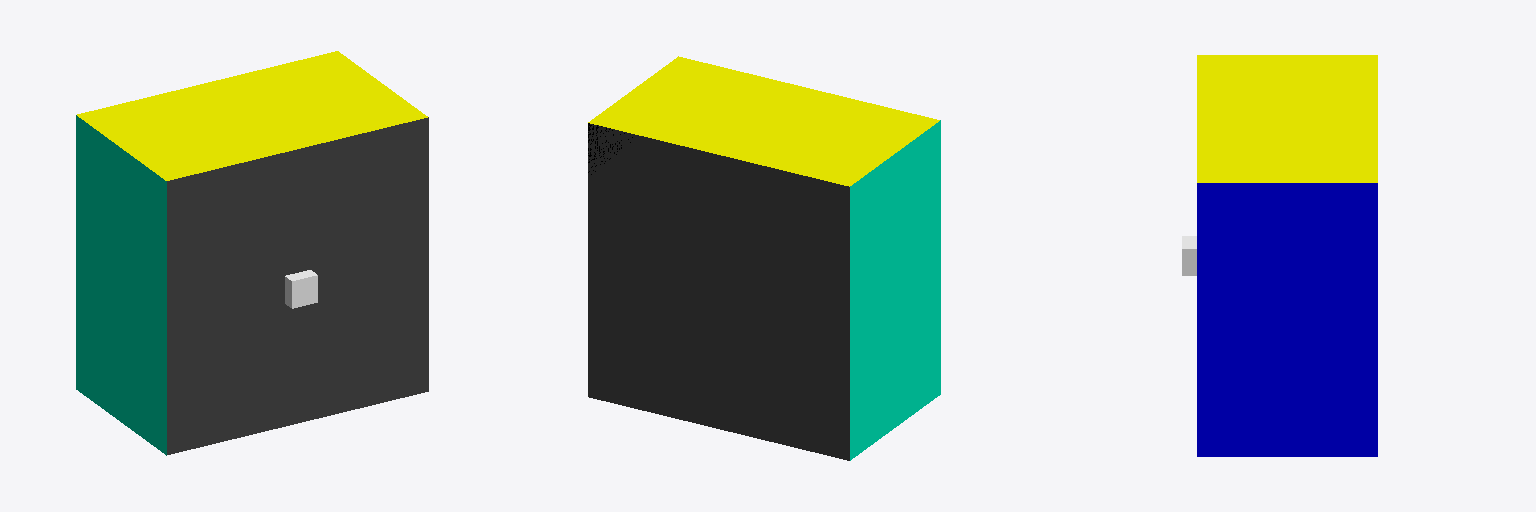
Rendered from triangles.obj.
3 renders of one model, left to right at view 1: azimuth 30°, elevation 25°; view 2: azimuth 150°, elevation 25°; view 3: azimuth 270°, elevation 25°, orthographic.
Visible parts, largest first — view 1: Plane.005_Plane.007, Plane, Plane.001, Cube_Cube.001; view 2: Plane.005_Plane.001, Plane, Plane.001; view 3: Plane.002, Plane.001, Cube_Cube.001.
Boxes of the visible parts, x1,y1,x2,y2 form: Plane.005_Plane.007: [167, 117, 428, 454]; Plane: [76, 115, 166, 455]; Plane.001: [77, 51, 427, 180]; Cube_Cube.001: [285, 270, 317, 308]; Plane.005_Plane.001: [588, 124, 849, 460]; Plane: [850, 120, 940, 460]; Plane.001: [588, 56, 939, 186]; Plane.002: [1197, 183, 1377, 456]; Plane.001: [1197, 55, 1377, 182]; Cube_Cube.001: [1182, 236, 1196, 275].
Size of the model in its own units: 20 by 20 by 13.